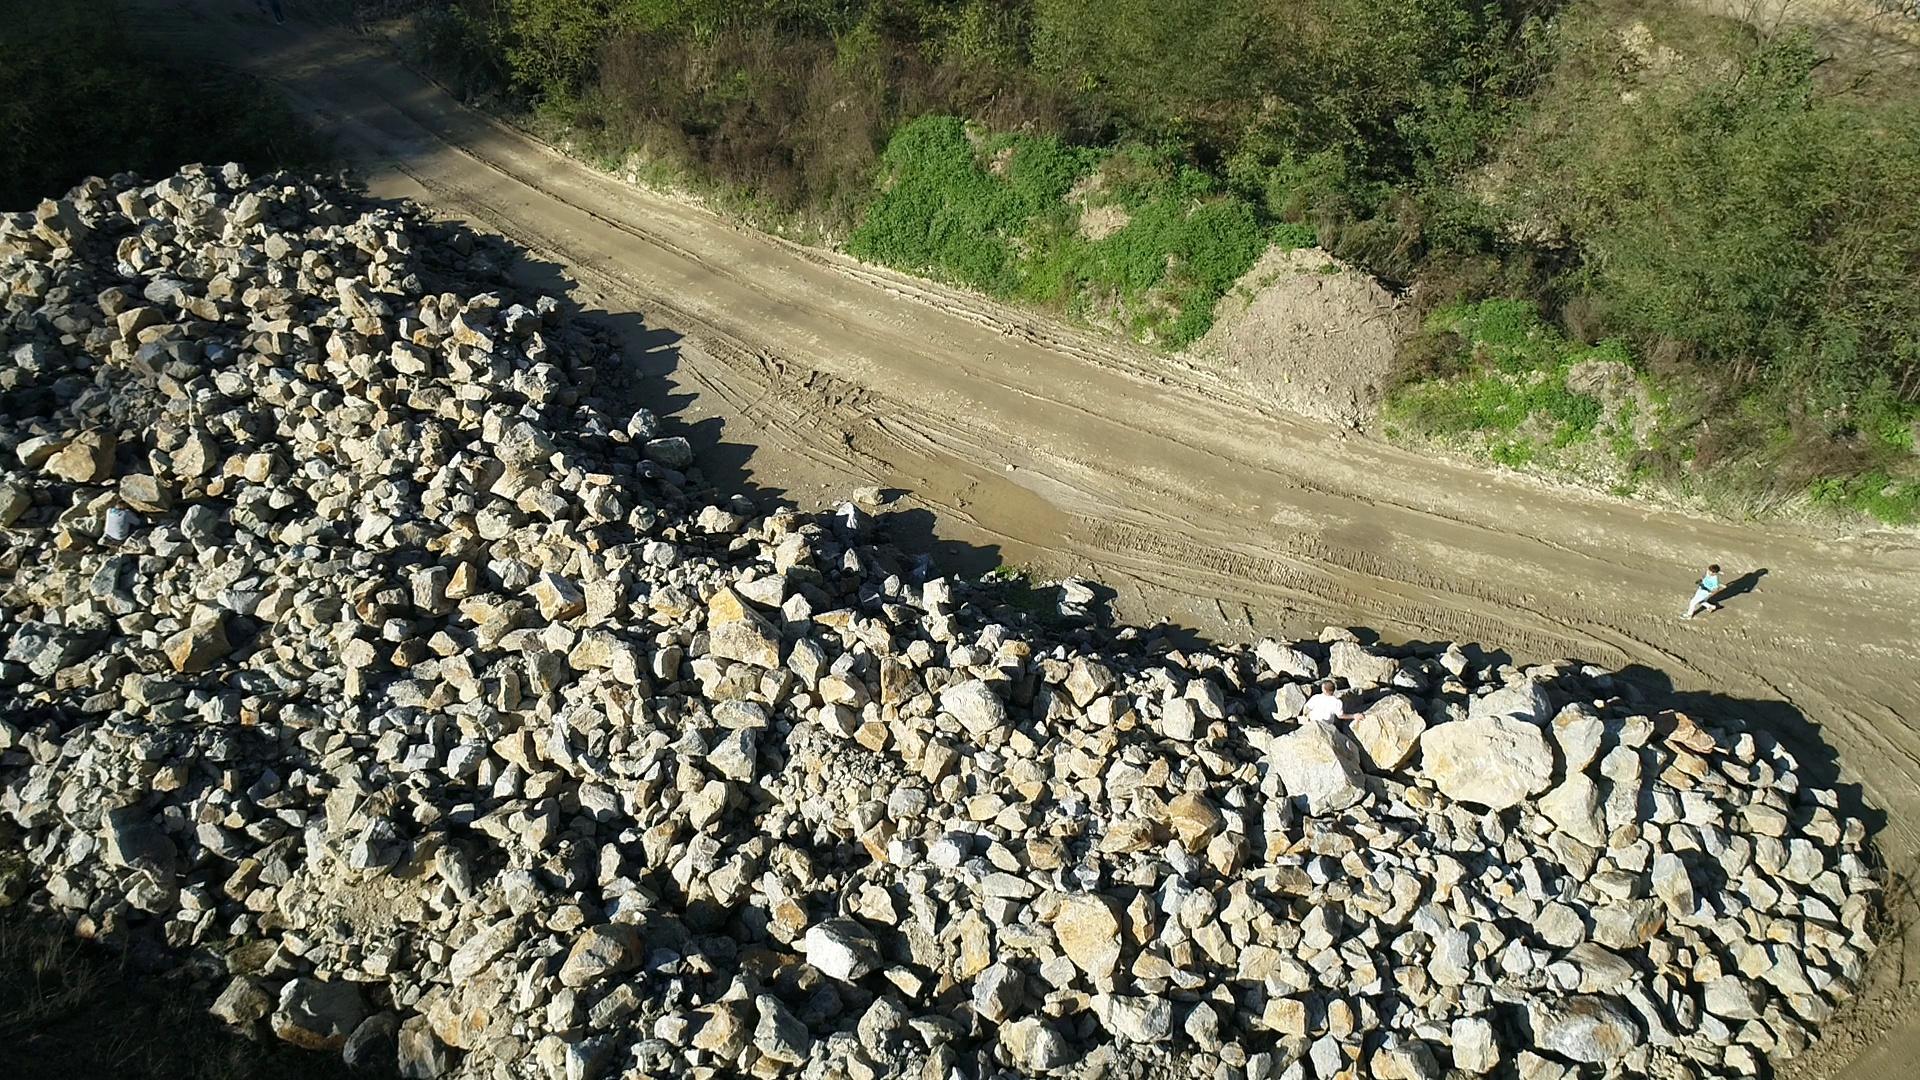person: (1302, 679, 1365, 733), (1678, 564, 1721, 619), (103, 500, 139, 547)
